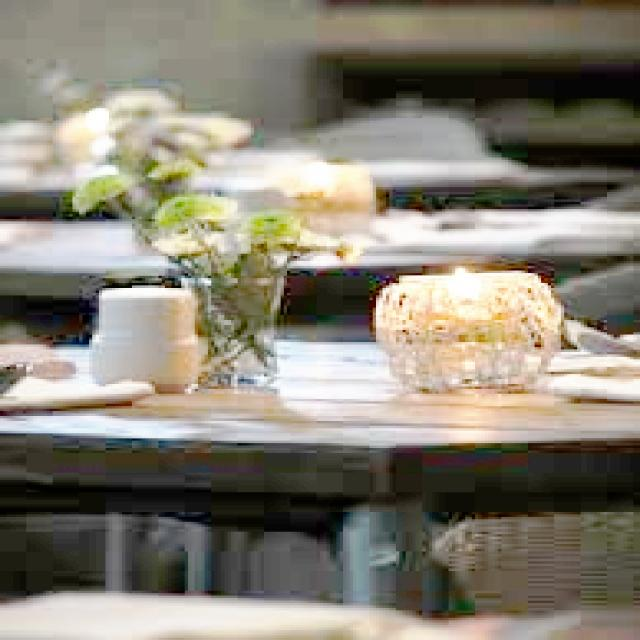api: (443, 257, 489, 301)
